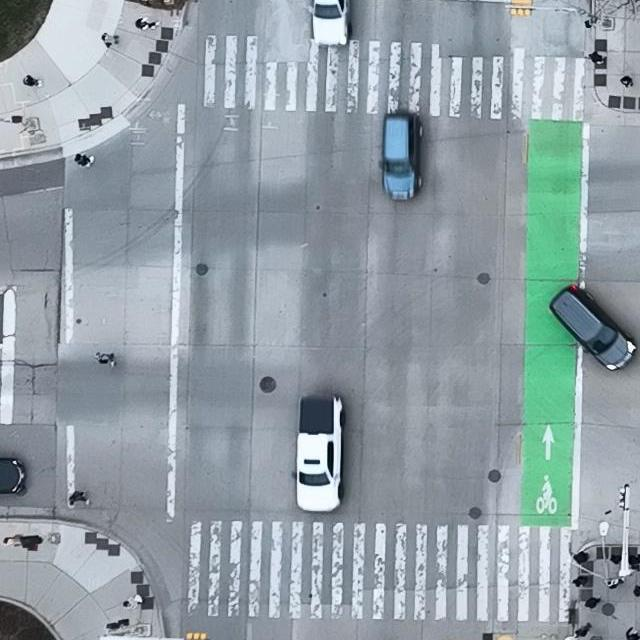car: (550, 282, 638, 371), (292, 392, 345, 512), (379, 113, 424, 201), (308, 0, 350, 47), (0, 457, 27, 495)
